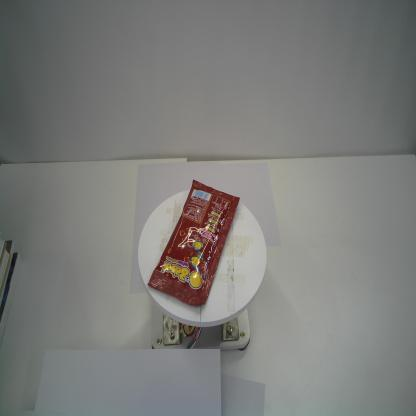Candy: (145, 178, 241, 307)
